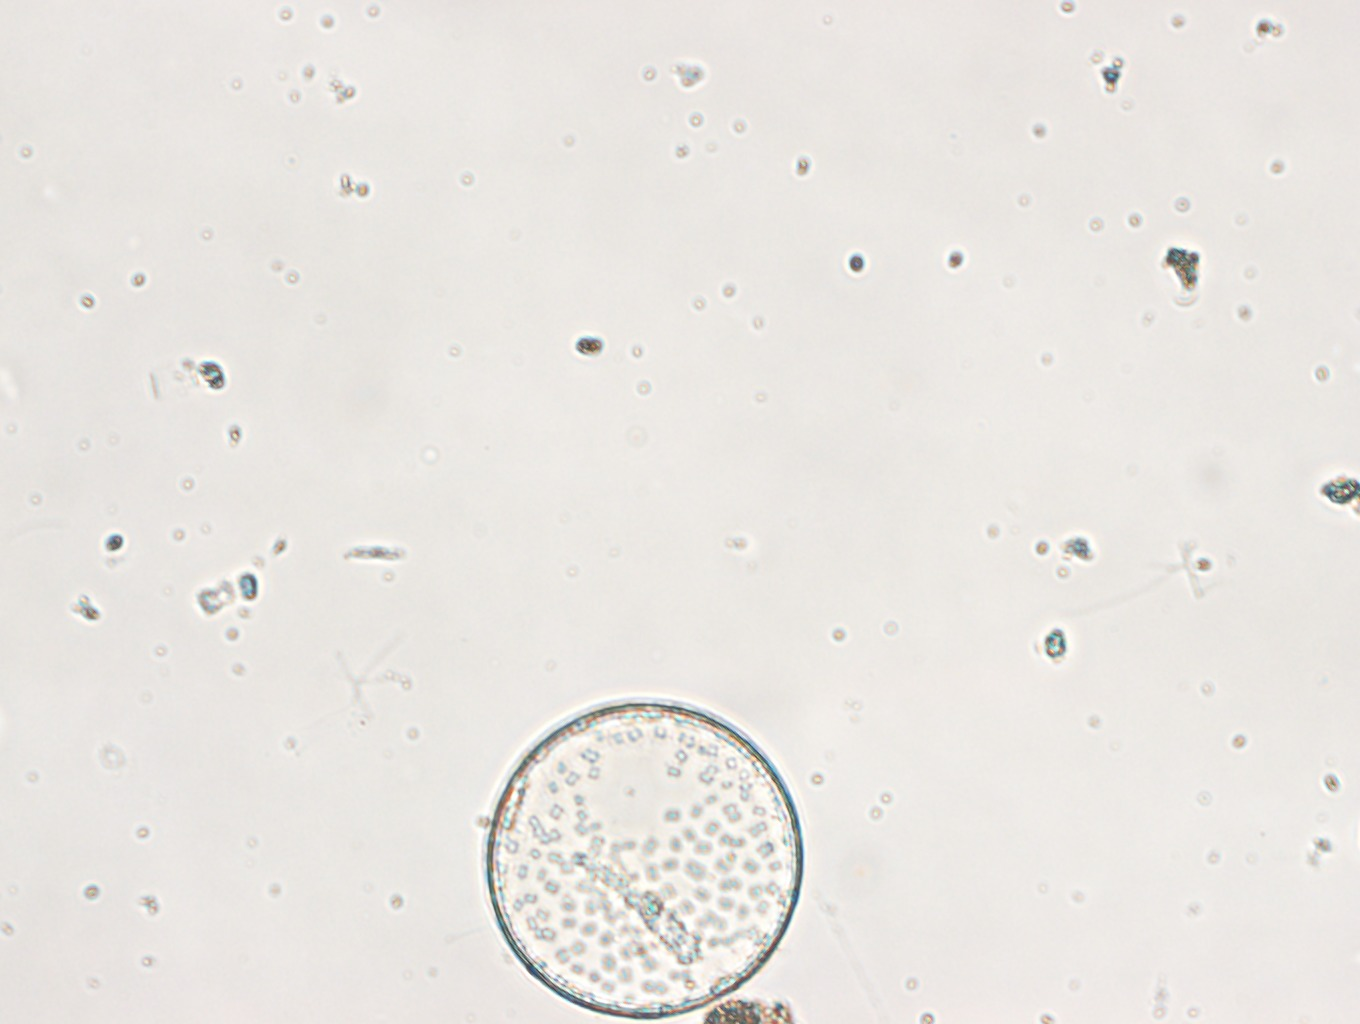coscinodiscus: (484, 699, 803, 1019)
